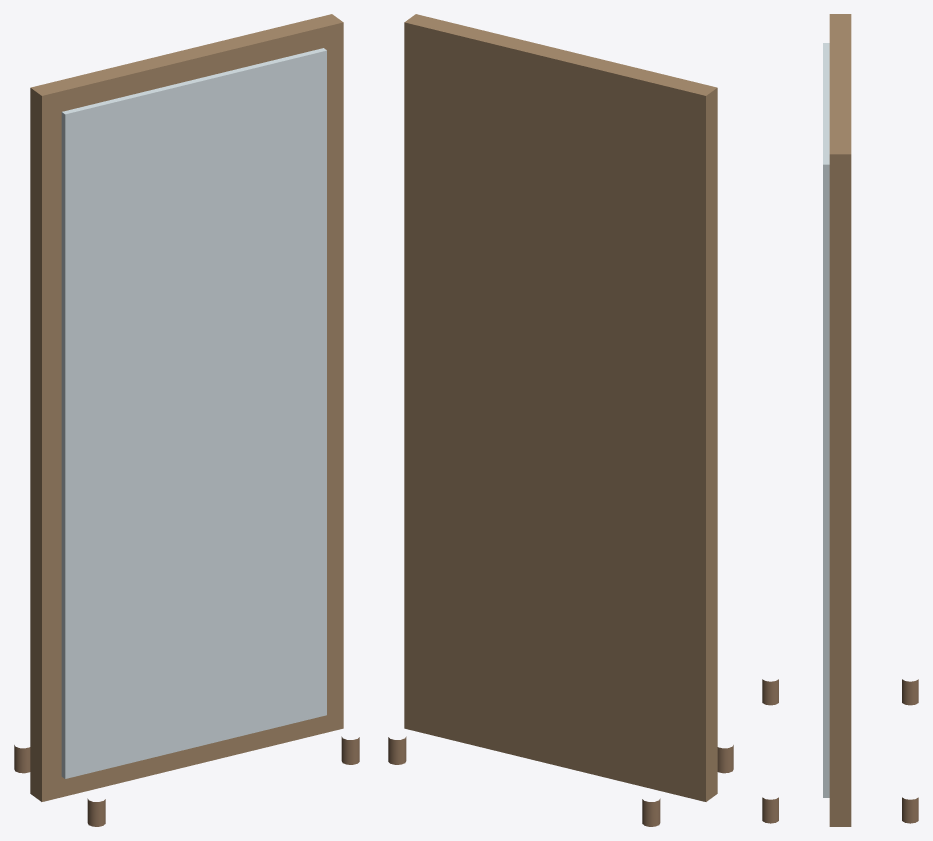
File: mirror.glb
3 renders of one model, left to right at view 1: azimuth 30°, elevation 25°; view 2: azimuth 150°, elevation 25°; view 3: azimuth 270°, elevation 25°, orthographic. The views are drawn at different scales.
Visible parts, largest first — view 1: part_1, part_0; view 2: part_0; view 3: part_0, part_1, part_3, part_5, part_2, part_4.
Boxes of the visible parts, bbox=[...] form: part_1: bbox=[61, 48, 326, 778]; part_0: bbox=[30, 14, 343, 801]; part_0: bbox=[404, 14, 717, 801]; part_0: bbox=[829, 14, 851, 826]; part_1: bbox=[823, 43, 829, 797]; part_3: bbox=[762, 797, 778, 823]; part_5: bbox=[902, 797, 918, 823]; part_2: bbox=[762, 679, 778, 705]; part_4: bbox=[902, 679, 918, 705].
Size of the model in its own units: 0.76 by 1.71 by 0.358.
